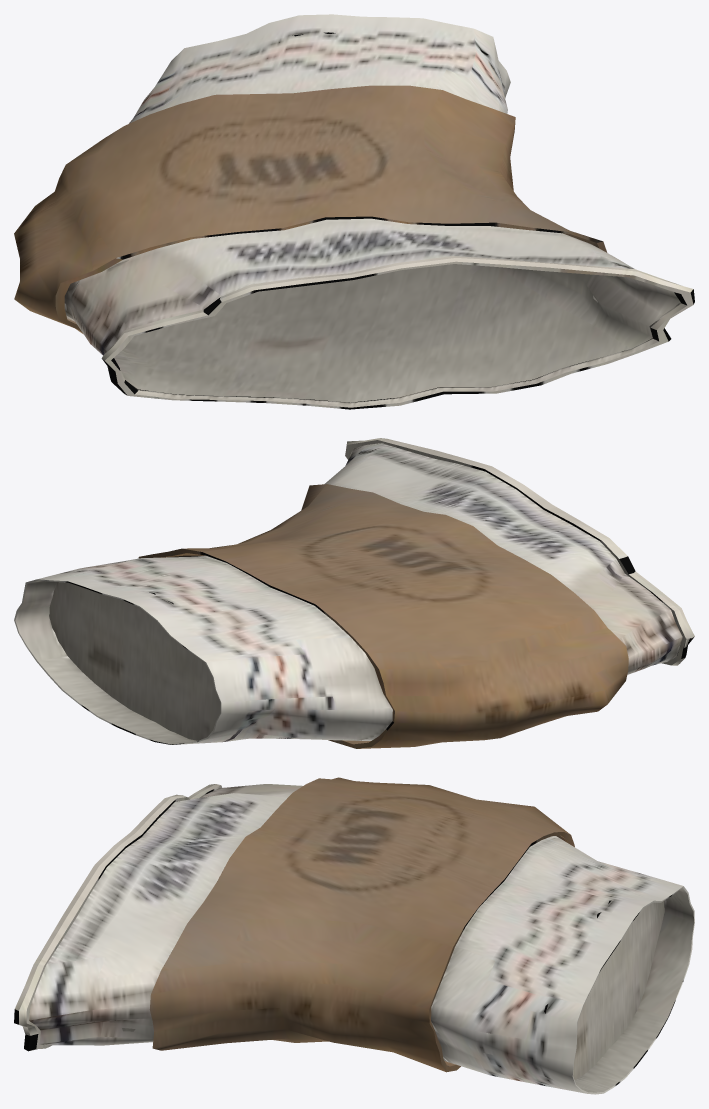
Rendered from SM_PL_Takeout_CoffeeCup_crushed.fbx.
3 views of the same model, one above another, from view 1: azimuth 30°, elevation 25°; view 2: azimuth 150°, elevation 25°; view 3: azimuth 270°, elevation 25° (orthographic). The views are drawn at different scales.
Visible parts, largest first — view 1: SM_PL_Takeout_CoffeeCup_crushed; view 2: SM_PL_Takeout_CoffeeCup_crushed; view 3: SM_PL_Takeout_CoffeeCup_crushed.
Part boxes in pixels (box(x1,y1,x2,y2)): SM_PL_Takeout_CoffeeCup_crushed: box(14, 14, 694, 409); SM_PL_Takeout_CoffeeCup_crushed: box(14, 438, 694, 748); SM_PL_Takeout_CoffeeCup_crushed: box(14, 777, 694, 1094).
Size of the model in its own units: 0.1335 by 0.0348 by 0.1353.
Materials: 1 (1 with a texture image).
